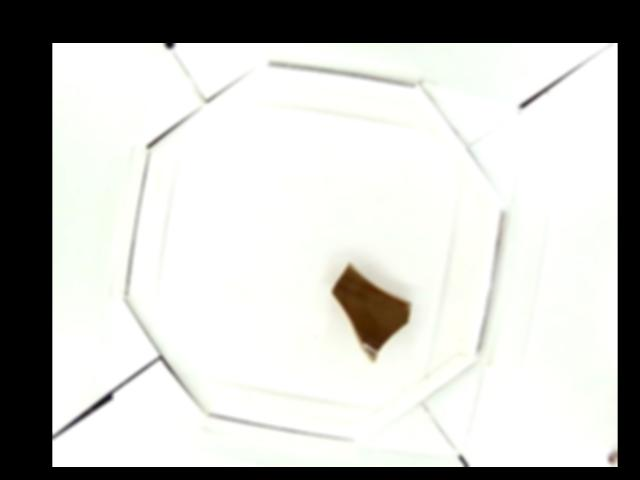China: (329, 257, 412, 361)
